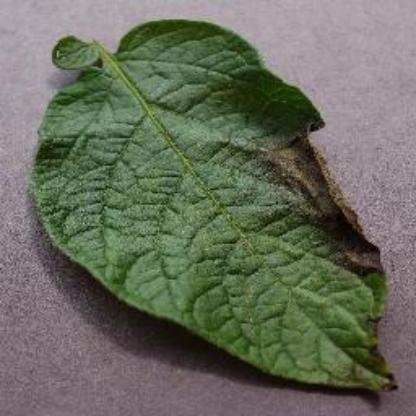Late-Blight: (24, 12, 406, 402)
